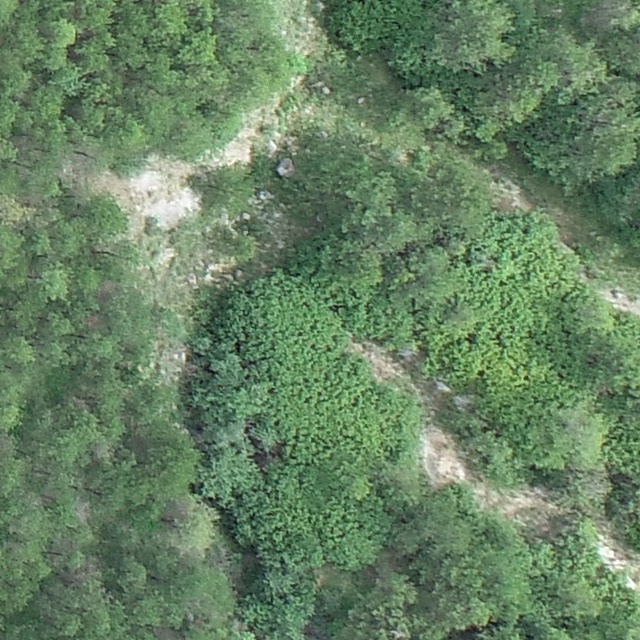unhealthy: (582, 0, 628, 30), (62, 554, 100, 586), (164, 498, 195, 526), (99, 275, 118, 301), (82, 311, 103, 330), (71, 392, 94, 409), (74, 499, 89, 524)
